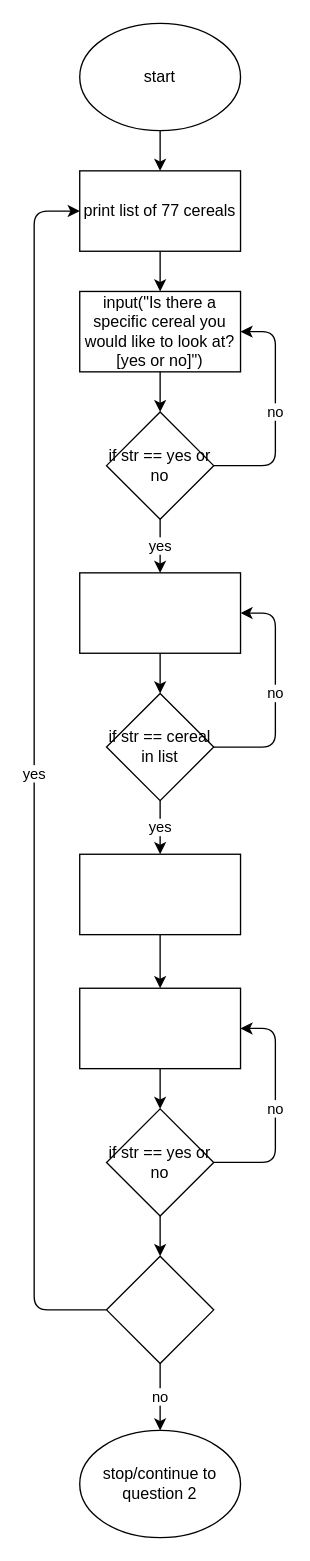
This 310x1561 diagram has some shape labels left out. Here are the shapes that lost their labels. From the top down, the centre of each, then its label:
(x=159, y=612): input("Select a cereal from the list to generate its nutritional data")
(x=159, y=894): print row of data corresponding to the input cereal + graph/chart
(x=159, y=1028): input("Is there another cereal you would like to look at? [yes or no]")
(x=159, y=1309): if input == yes
